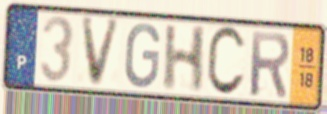3: (40, 13, 77, 86)
C: (204, 24, 248, 100)
G: (123, 22, 162, 91)
H: (160, 23, 209, 94)
R: (248, 28, 292, 99)
V: (79, 16, 124, 90)
